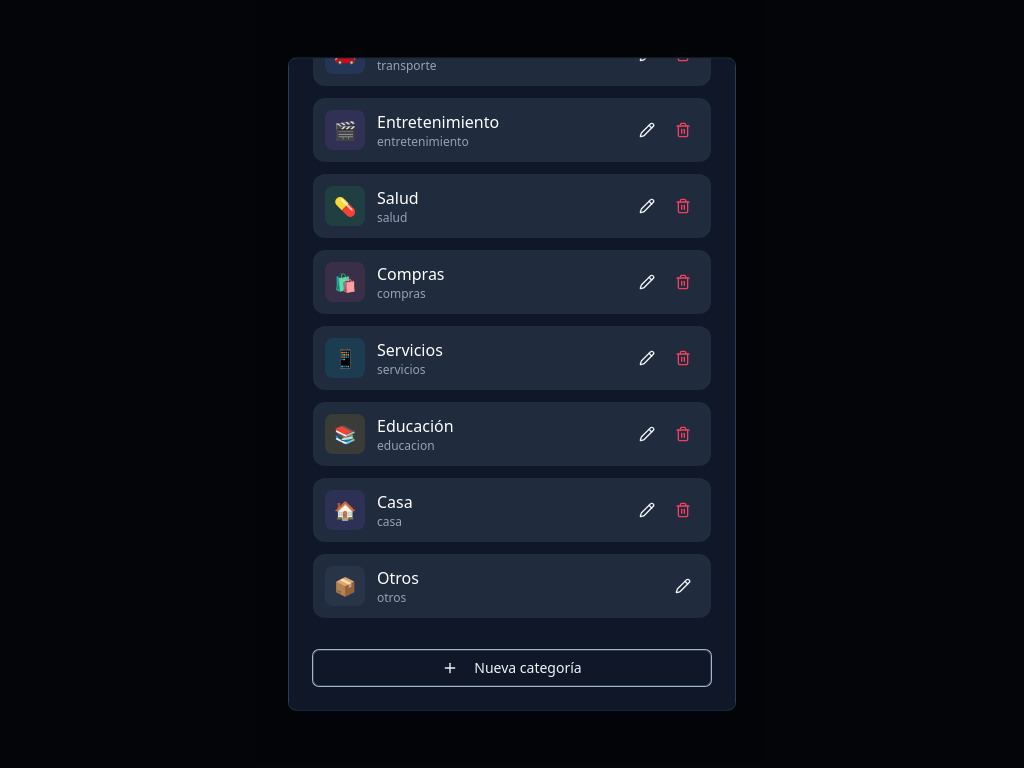
Test: CategoryManager › shows validation error when name is empty
The width and height of the screenshot is (1024, 768).
(page scrolled)
Click the button "Nueva categoría". click: [512, 668]
box: left=313, top=650, right=711, bottom=686
(page scrolled)
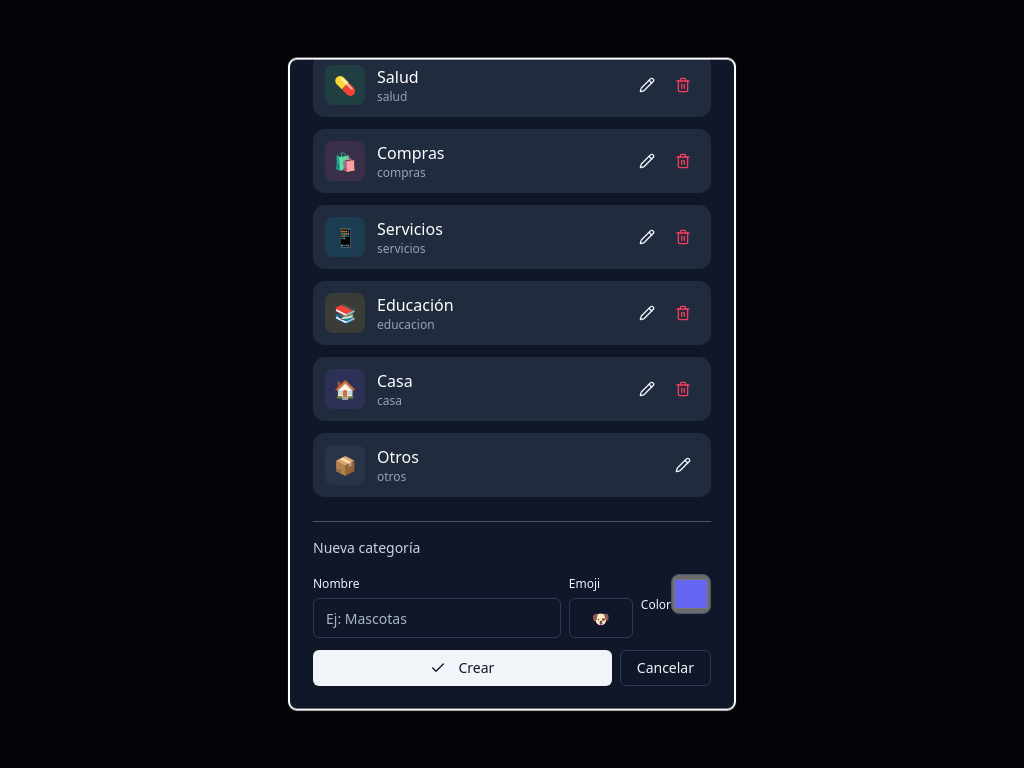
Click the button "Crear". click: [462, 668]
box: left=313, top=650, right=612, bottom=686
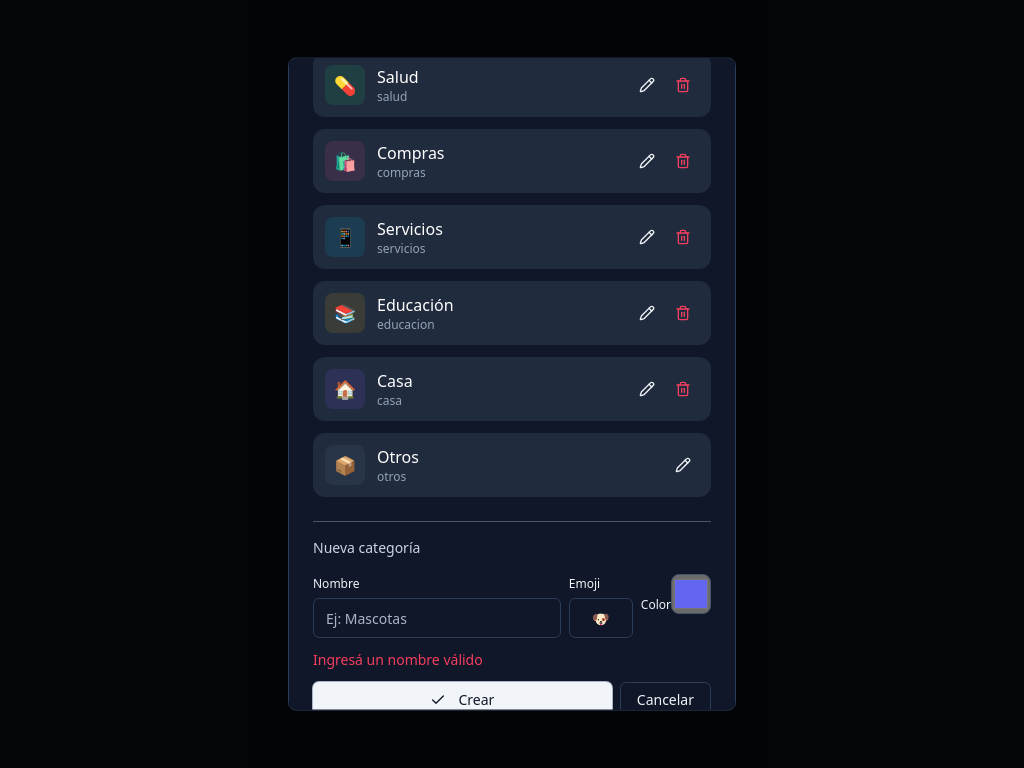
Expected: the text "Ingresá un nombre válido" is shown, left=313, top=650, right=483, bottom=669
